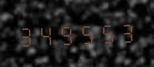five: (78, 19, 97, 46), (98, 19, 117, 45)
four: (37, 21, 56, 47)
nine: (58, 20, 77, 46)
three: (17, 22, 36, 48), (118, 18, 137, 44)
